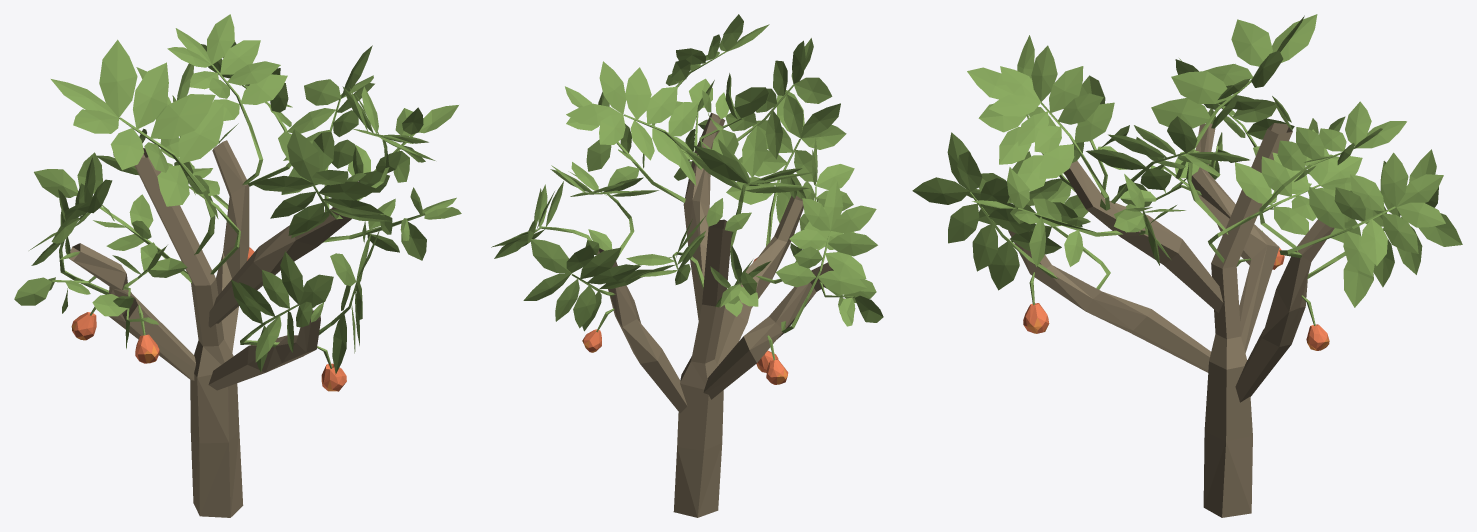
Rendered from Apple_5_3.fbx.
The picture shows the model from 3 angles, left to right: view 1: azimuth 30°, elevation 25°; view 2: azimuth 150°, elevation 25°; view 3: azimuth 270°, elevation 25°; orthographic projection. The views are drawn at different scales.
Parts seen in each view (by area): view 1: Apple_5_3; view 2: Apple_5_3; view 3: Apple_5_3.
Boxes of the visible parts, <box> form: Apple_5_3: <box>14,14,461,517</box>; Apple_5_3: <box>491,14,883,517</box>; Apple_5_3: <box>912,14,1462,517</box>.
Size of the model in its own units: 336 by 382 by 395.
